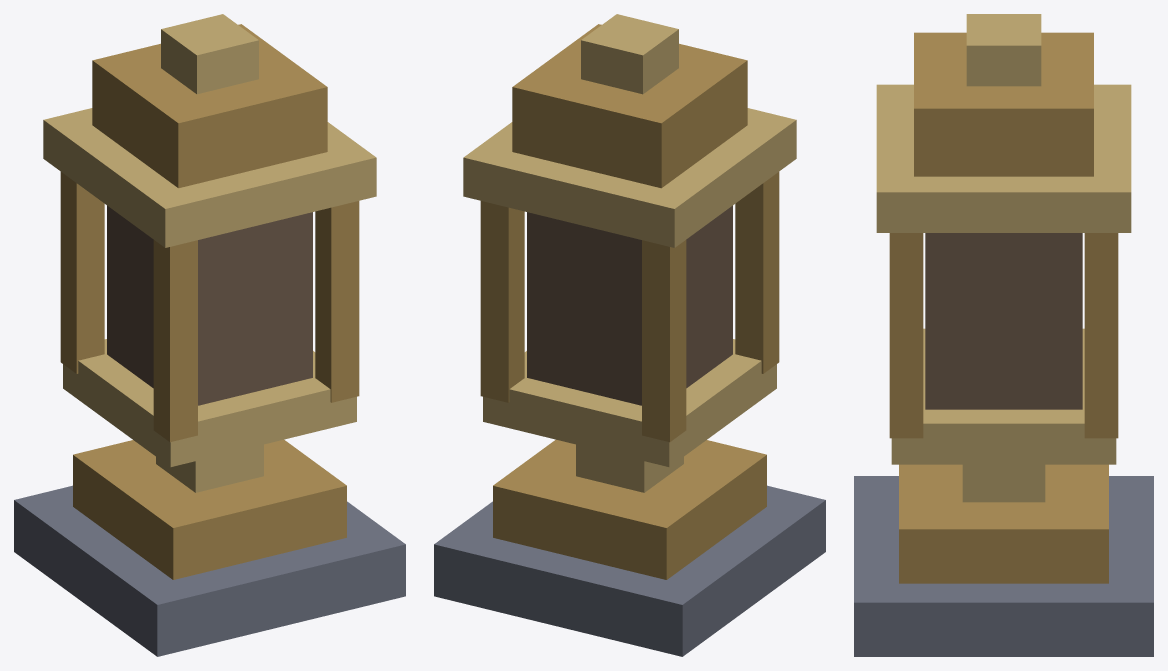
File: lampa_2.glb
3 views of the same model, side by side, from view 1: azimuth 30°, elevation 25°; view 2: azimuth 150°, elevation 25°; view 3: azimuth 270°, elevation 25° (orthographic). The views are drawn at different scales.
Parts seen in each view (by area): view 1: part_0, part_10, part_1, part_5, part_4, part_3, part_7, part_9, part_6, part_11, part_2; view 2: part_0, part_10, part_1, part_5, part_4, part_3, part_6, part_8, part_7, part_11, part_2; view 3: part_0, part_10, part_5, part_1, part_4, part_3, part_8, part_9, part_11, part_2.
Part boxes in pixels (x1,y1,x2,y2): part_0: [14, 485, 405, 656]; part_10: [107, 205, 312, 405]; part_1: [73, 439, 346, 579]; part_5: [92, 24, 327, 188]; part_4: [43, 108, 376, 247]; part_3: [63, 339, 356, 467]; part_7: [153, 240, 197, 442]; part_9: [315, 201, 359, 402]; part_6: [60, 172, 104, 373]; part_11: [161, 14, 258, 94]; part_2: [156, 444, 263, 492]; part_0: [434, 485, 825, 656]; part_10: [527, 205, 732, 405]; part_1: [493, 439, 766, 579]; part_5: [512, 24, 747, 188]; part_4: [463, 108, 796, 247]; part_3: [483, 339, 776, 467]; part_6: [642, 240, 686, 442]; part_8: [480, 201, 524, 402]; part_7: [735, 172, 779, 373]; part_11: [581, 14, 678, 94]; part_2: [576, 444, 683, 492]; part_0: [854, 476, 1153, 656]; part_10: [925, 233, 1082, 409]; part_5: [914, 32, 1093, 176]; part_1: [899, 464, 1108, 583]; part_4: [876, 84, 1131, 232]; part_3: [891, 328, 1116, 464]; part_8: [1084, 233, 1118, 438]; part_9: [889, 233, 923, 438]; part_11: [966, 14, 1041, 86]; part_2: [962, 464, 1045, 502].
Bounding box in the file's own units: 0.4 × 0.83 × 0.4.
